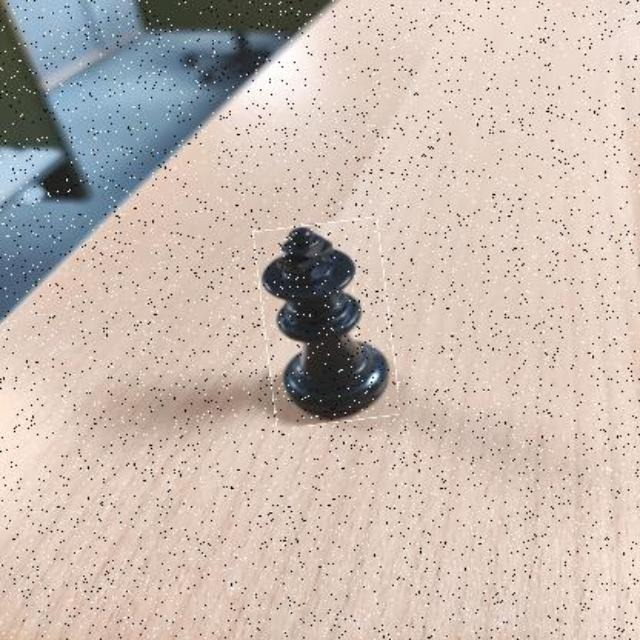black-king: (259, 220, 395, 424)
